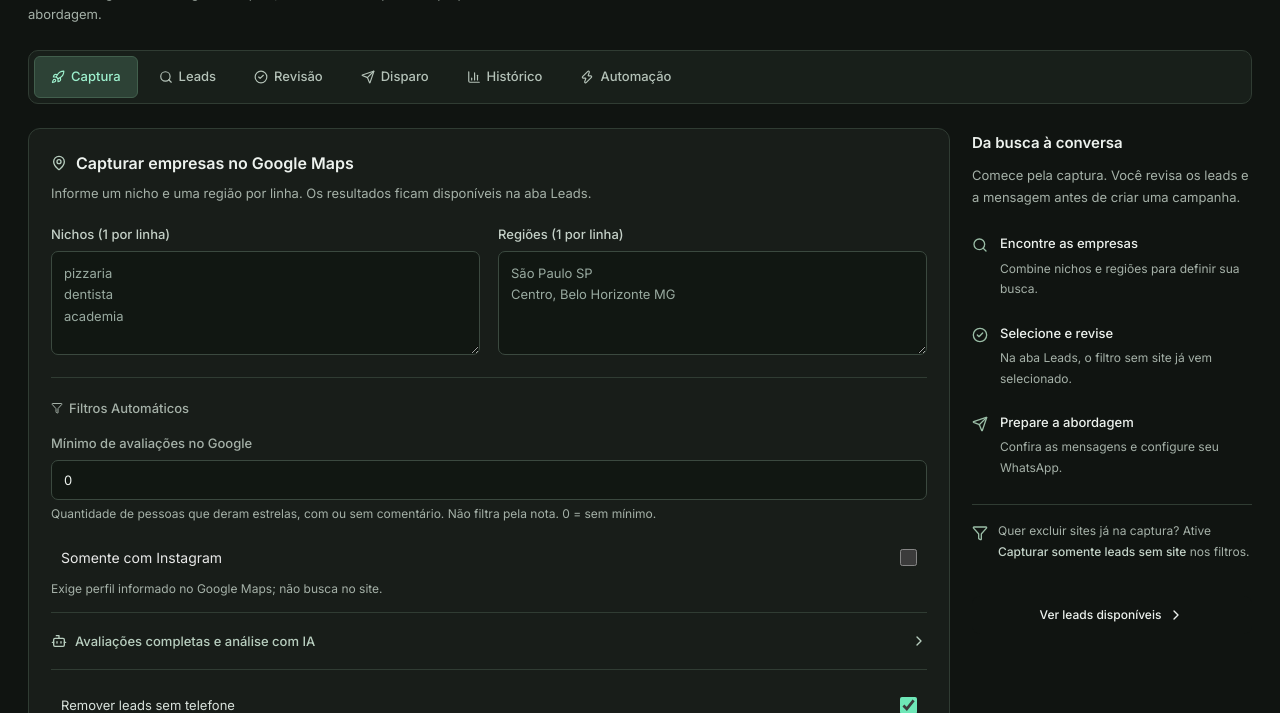
Test: progresso e ações das automações na Prospecção Sites › mostra 0/20 leads mesmo sem capturados
Click the button "Automação": (626, 77) [564, 56, 688, 98]
(page scrolled)
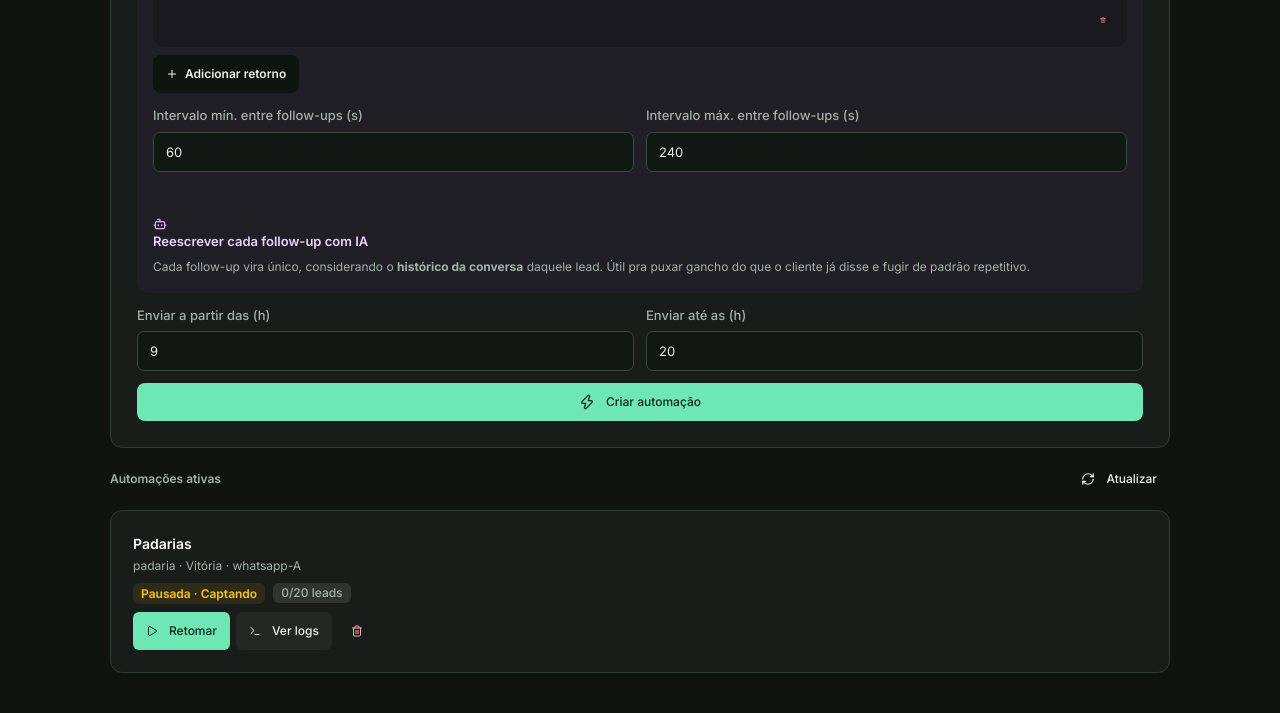
Result: the text "Padarias" is shown at [133, 535, 192, 552]
